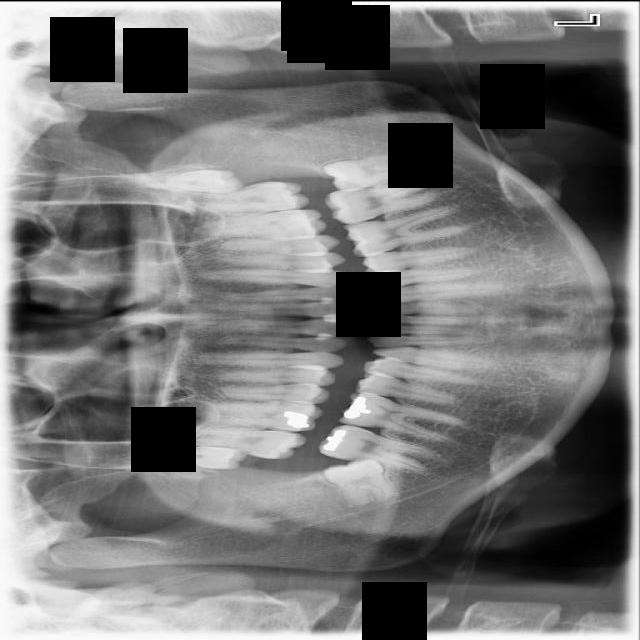3M ESPE Implant: (123, 443, 250, 470)
52: (314, 408, 376, 470), (337, 384, 392, 436), (265, 398, 324, 433), (304, 317, 355, 338), (308, 299, 356, 318), (301, 335, 348, 352), (306, 283, 350, 301)
73: (571, 48, 594, 50)
BioHorizons Implant: (160, 178, 311, 218)
BioLife Implant: (104, 167, 243, 192)
Biomet 3i Implant: (323, 147, 418, 195)
Blue Sky Bio Implant: (323, 176, 439, 227)
Caries: (178, 427, 307, 460)
Implant: (316, 420, 446, 475)
Keystone Dental Implant: (322, 455, 396, 506)
